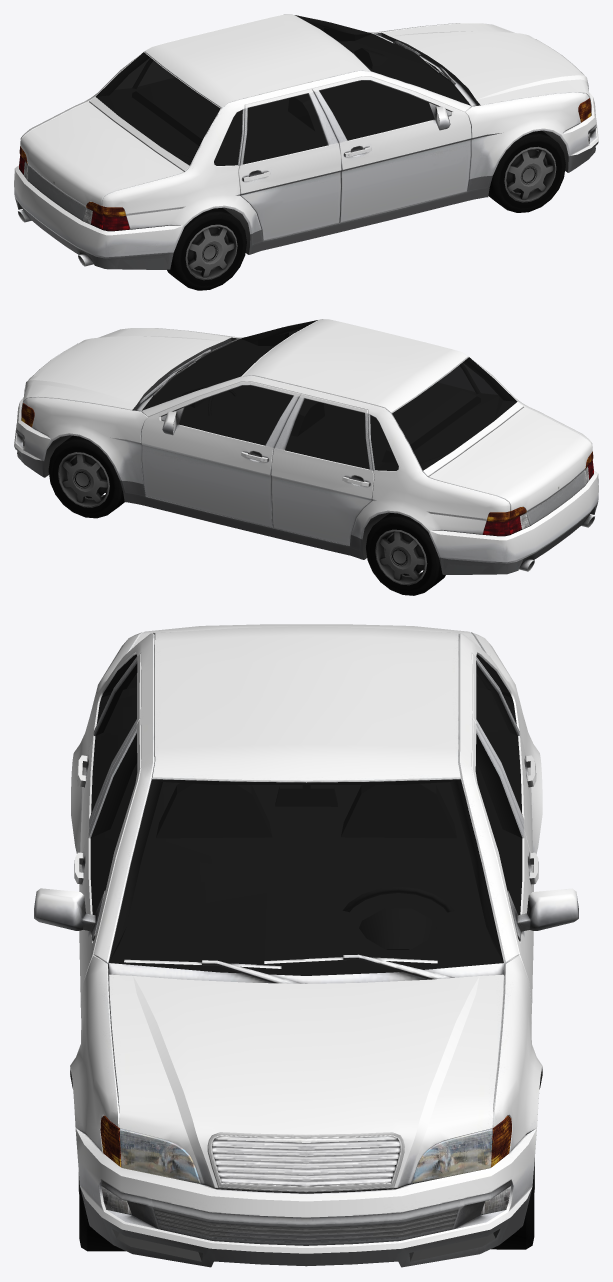
The model's file is sedan_white.glb.
3 views of the same model, one above another, from view 1: azimuth 30°, elevation 25°; view 2: azimuth 150°, elevation 25°; view 3: azimuth 270°, elevation 25° (orthographic). The views are drawn at different scales.
Parts seen in each view (by area): view 1: Sedan Body; view 2: Sedan Body; view 3: Sedan Body.
Boxes of the visible parts, <box> form: Sedan Body: <box>14,14,598,290</box>; Sedan Body: <box>14,319,598,595</box>; Sedan Body: <box>34,624,578,1267</box>.
Bounding box in the file's own units: 4.8 × 1.48 × 2.14.
Materials: 4 (3 with a texture image).
